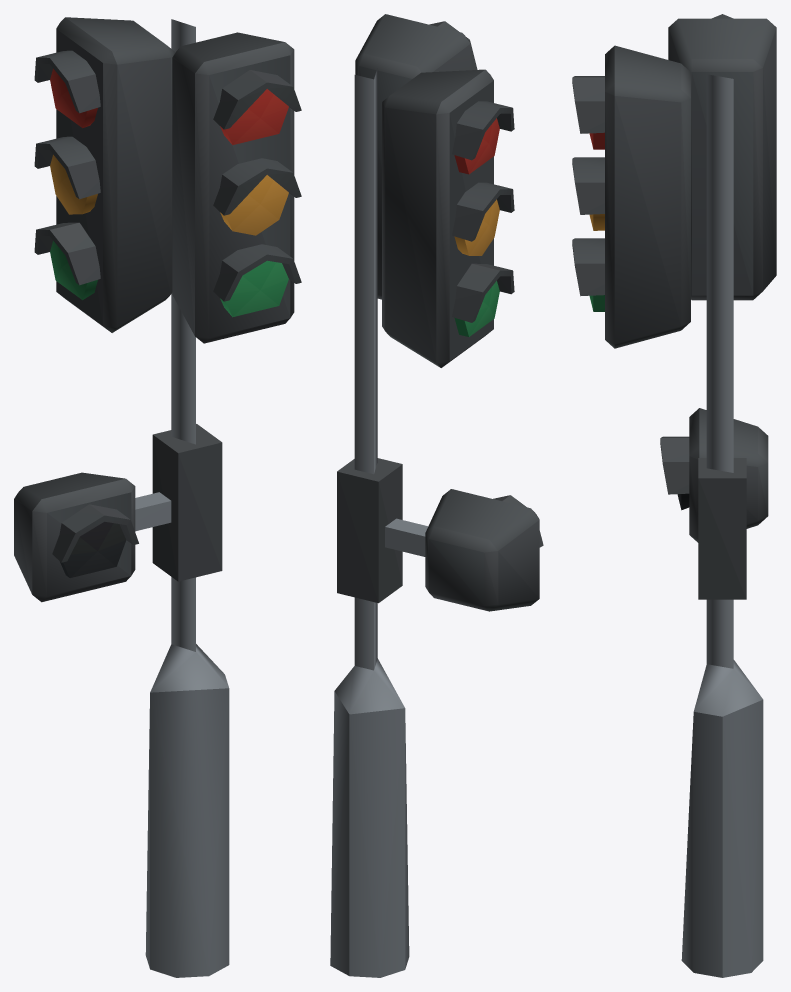
File: traffic-light.low.903ac205.glb
3 renders of one model, left to right at view 1: azimuth 30°, elevation 25°; view 2: azimuth 150°, elevation 25°; view 3: azimuth 270°, elevation 25°, orthographic. The views are drawn at different scales.
Parts seen in each view (by area): view 1: traffic-light; view 2: traffic-light; view 3: traffic-light.
Boxes of the visible parts, x1,y1,x2,y2 form: traffic-light: (14,17,301,977); traffic-light: (330,14,543,977); traffic-light: (572,14,776,977).
Bounding box in the file's own units: 1.08 × 4.5 × 0.9289.
